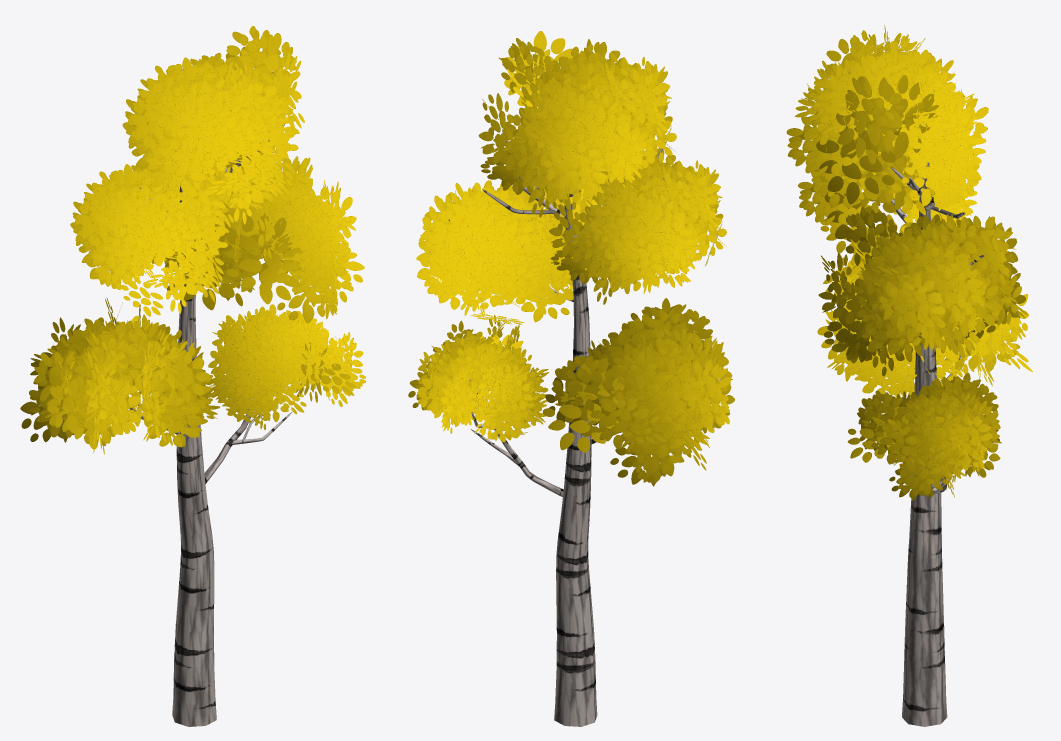
File: tree-birch.glb
The picture shows the model from 3 angles, left to right: view 1: azimuth 30°, elevation 25°; view 2: azimuth 150°, elevation 25°; view 3: azimuth 270°, elevation 25°; orthographic projection. The views are drawn at different scales.
Parts seen in each view (by area): view 1: BirchTree_1; view 2: BirchTree_1; view 3: BirchTree_1.
Boxes of the visible parts, x1=… form: BirchTree_1: x1=20, y1=26, x2=365, y2=726; BirchTree_1: x1=408, y1=31, x2=734, y2=726; BirchTree_1: x1=786, y1=25, x2=1032, y2=726.
Bounding box in the file's own units: 2.71 × 5.45 × 1.94.
2 materials, 2 textured.
